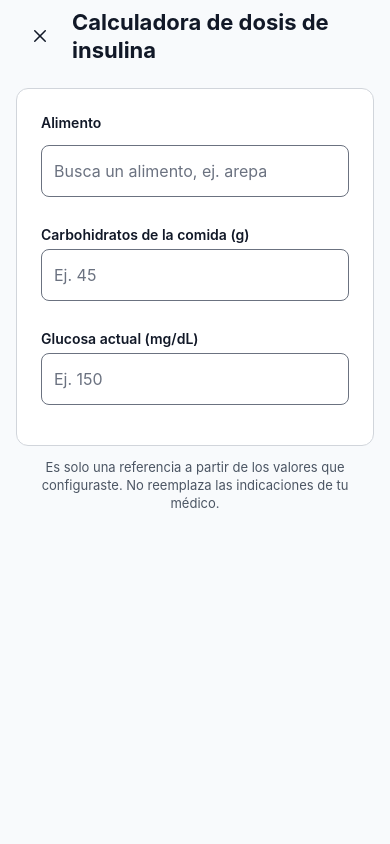
Test case: InsulinCalculatorScreen › con ratio, factor y rango configurados, calcula la dosis total
Type "45" into the field named "Carbohidratos de la comida (g)".
click(195, 275); type("45")  # box [54, 253, 336, 297]
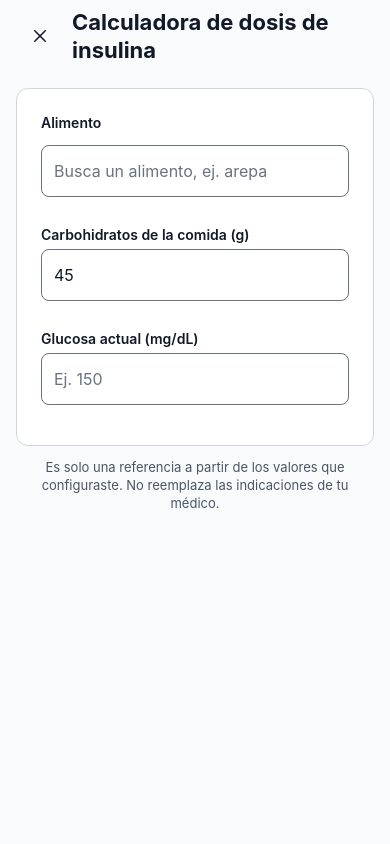
Type "200" into the field named "Glucosa actual (mg/dL)".
click(195, 379); type("200")  # box [54, 357, 336, 401]
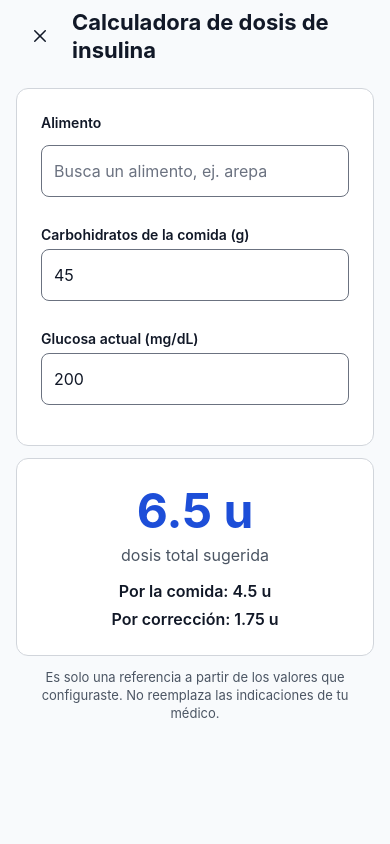
Expected: the text "6.5 u" is shown, [137, 483, 253, 539]
